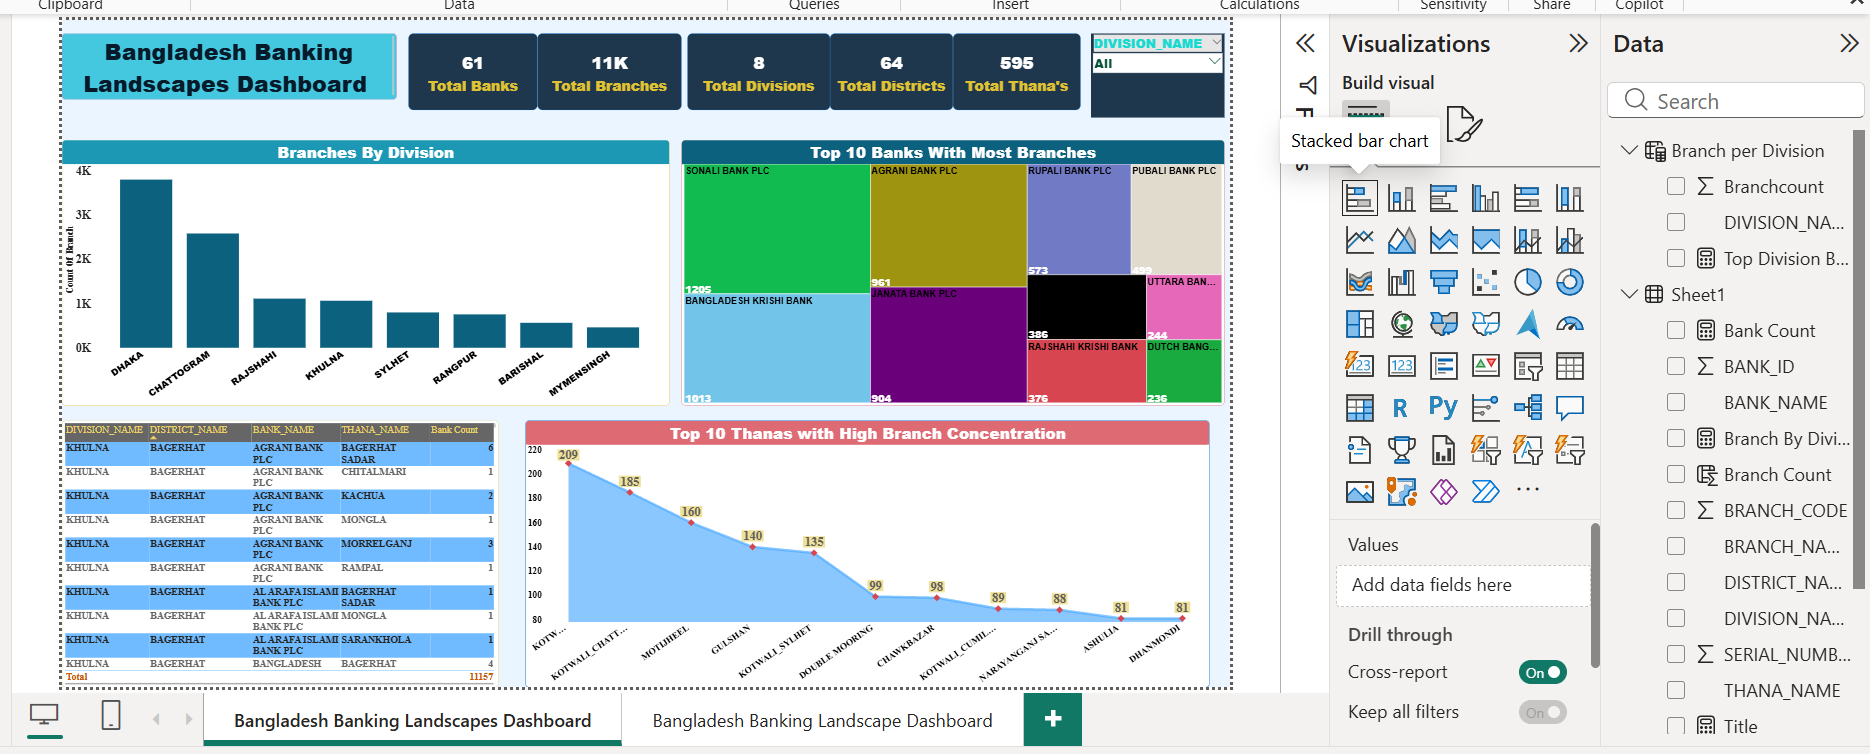

What the dashboard file says about the page in this screenshot:
{"tool":"powerbi","page":{"name":"Bangladesh Banking Landscapes Dashboard ","canvas":[5600,3200],"ordinal":0},"visuals":[{"type":"card","fields":{"Values":["Sheet1.Total Banks"]},"box":[1662.4,64.8,618.9,367],"z":0},{"type":"card","fields":{"Values":["Sheet1.Total Thana's"]},"box":[4274.8,64.8,611.7,367],"z":1000},{"type":"card","fields":{"Values":["Sheet1.Total Divisions"]},"box":[3001,64.8,683.7,367],"z":2000},{"type":"card","fields":{"Values":["Sheet1.Total Districts"]},"box":[3684.6,64.8,590.1,367],"z":3000},{"type":"card","fields":{"Values":["Sheet1.Total Branches"]},"box":[2281.3,64.8,690.9,367],"z":4000},{"type":"slicer","fields":{"Values":["Sheet1.DIVISION_NAME"]},"box":[4936.8,64.8,640.5,403],"z":5000},{"type":"columnChart","title":"Branches By Division","fields":{"Category":["Sheet1.DIVISION_NAME"],"Y":["CountNonNull(Sheet1.BRANCH_NAME)"]},"box":[0,575.7,2914.6,1273.8],"z":6000},{"type":"treemap","title":"Top 10 Banks With Most Branches","fields":{"Group":["Sheet1.BANK_NAME"],"Values":["CountNonNull(Sheet1.BANK_ID)"]},"box":[2972.2,575.7,2605.2,1273.8],"z":7000},{"type":"tableEx","fields":{"Values":["Sheet1.DIVISION_NAME","Sheet1.DISTRICT_NAME","Sheet1.BANK_NAME","Sheet1.THANA_NAME","Sheet1.Bank Count"]},"box":[0,1921.5,2094.2,1281],"z":8000},{"type":"areaChart","title":"Top 10 Thanas with High Branch Concentration","fields":{"Category":["Sheet1.THANA_NAME"],"Y":["Sheet1.Bank Count"]},"box":[2223.7,1921.5,3281.6,1281],"z":9000},{"type":"textbox","box":[0,64.8,1604.8,316.6],"z":10000}]}

Visuals, with their boxes on the page's 5600x3200 design canvas (x1, y1, x2, y2). These are canvas units, not pixel positions in the 1870x754 screenshot, which may show the page scaled, cropped or inside an application window:
card - Sheet1.Total Banks: (left=1662, top=65, right=2281, bottom=432)
card - Sheet1.Total Thana's: (left=4275, top=65, right=4886, bottom=432)
card - Sheet1.Total Divisions: (left=3001, top=65, right=3685, bottom=432)
card - Sheet1.Total Districts: (left=3685, top=65, right=4275, bottom=432)
card - Sheet1.Total Branches: (left=2281, top=65, right=2972, bottom=432)
slicer - Sheet1.DIVISION_NAME: (left=4937, top=65, right=5577, bottom=468)
"Branches By Division" columnChart: (left=0, top=576, right=2915, bottom=1850)
"Top 10 Banks With Most Branches" treemap: (left=2972, top=576, right=5577, bottom=1850)
tableEx - Sheet1.DIVISION_NAME x Sheet1.DISTRICT_NAME: (left=0, top=1922, right=2094, bottom=3202)
"Top 10 Thanas with High Branch Concentration" areaChart: (left=2224, top=1922, right=5505, bottom=3202)
textbox: (left=0, top=65, right=1605, bottom=381)
